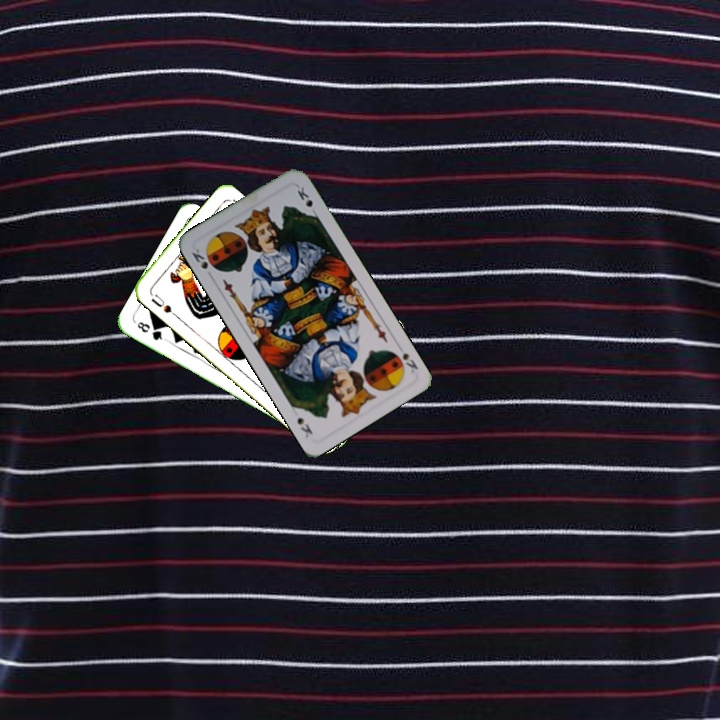G8: (133, 318, 169, 343)
SK: (388, 340, 421, 375), (188, 245, 211, 272)
SU: (146, 289, 180, 320)
